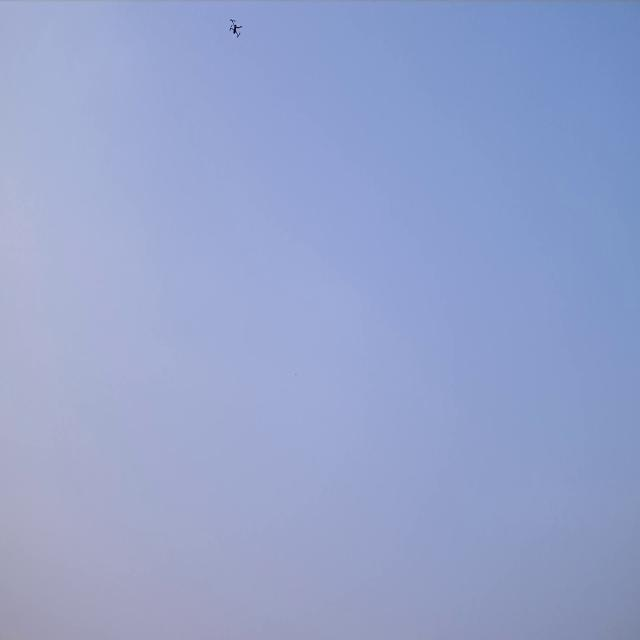UAV: (228, 16, 243, 38)
